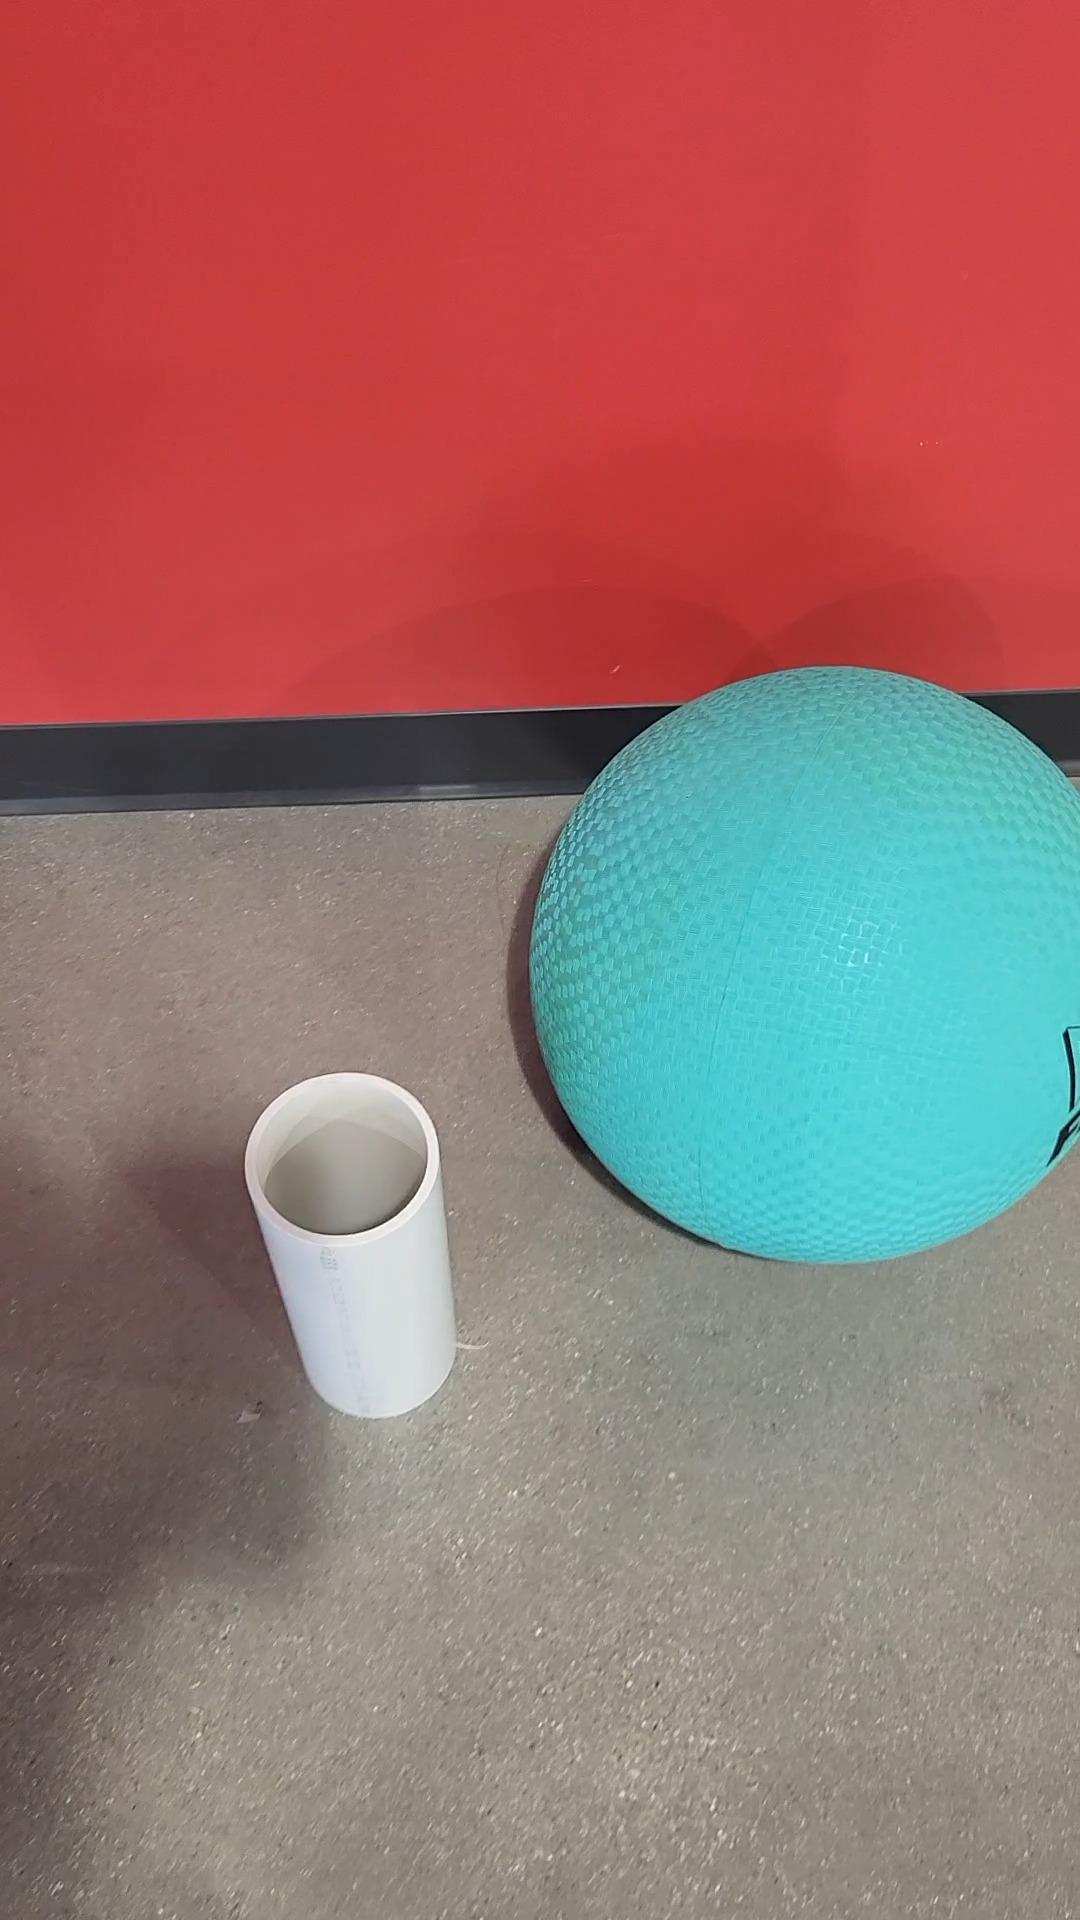algae: (522, 658, 1079, 1273)
coral: (247, 1073, 459, 1420)
